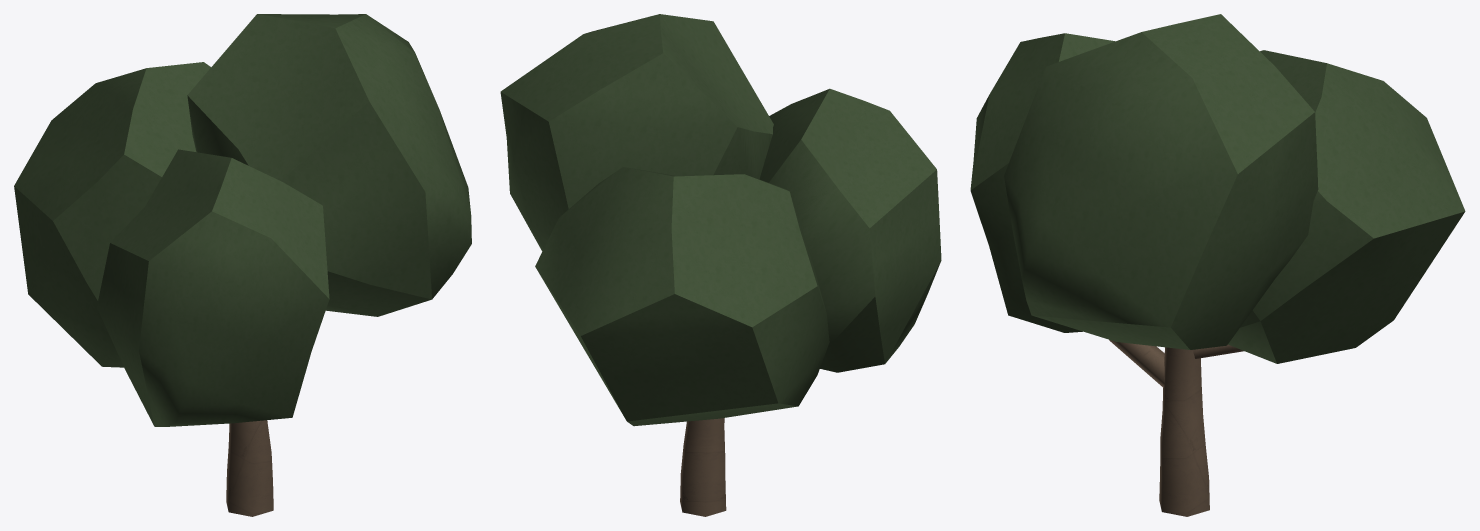
The model's file is tree_large_01.FBX.
The picture shows the model from 3 angles, left to right: view 1: azimuth 30°, elevation 25°; view 2: azimuth 150°, elevation 25°; view 3: azimuth 270°, elevation 25°; orthographic projection. The views are drawn at different scales.
Visible parts, largest first — view 1: tree_large_01_mesh; view 2: tree_large_01_mesh; view 3: tree_large_01_mesh.
Part boxes in pixels (<box>): tree_large_01_mesh: <box>14,14,471,516</box>; tree_large_01_mesh: <box>500,14,941,516</box>; tree_large_01_mesh: <box>970,14,1465,516</box>.
Bounding box in the file's own units: 2386 × 2831 × 2505.
Materials: 2 (2 with a texture image).
